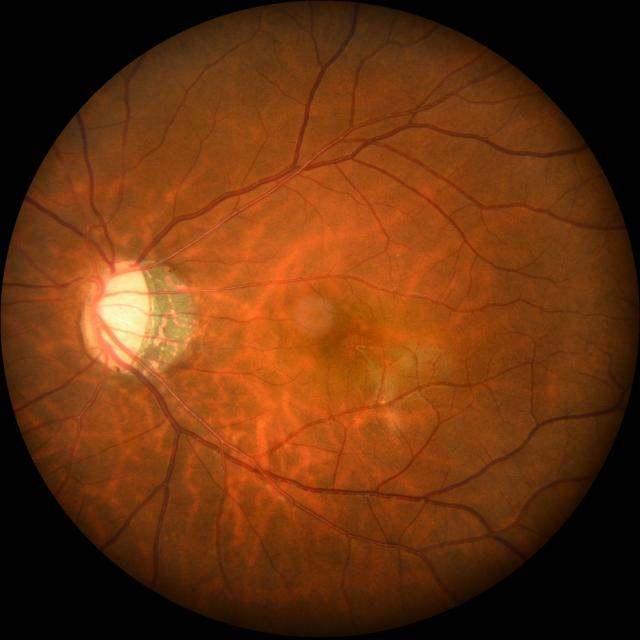OC: (96, 272, 147, 360)
OD: (81, 258, 152, 370)
